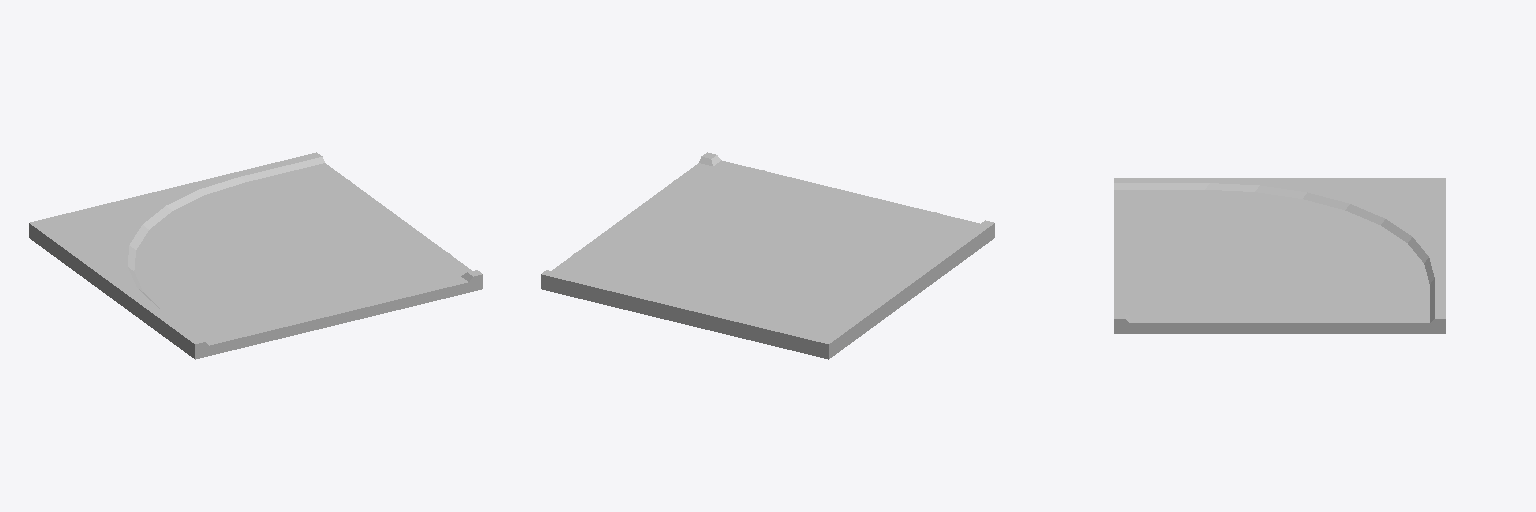
File: road_corner_curved.obj
The picture shows the model from 3 angles: view 1: azimuth 30°, elevation 25°; view 2: azimuth 150°, elevation 25°; view 3: azimuth 270°, elevation 25°; orthographic projection.
Visible parts, largest first — view 1: road_corner_curved_Cube.947; view 2: road_corner_curved_Cube.947; view 3: road_corner_curved_Cube.947.
Boxes of the visible parts, x1,y1,x2,y2 form: road_corner_curved_Cube.947: [29, 152, 482, 359]; road_corner_curved_Cube.947: [541, 152, 994, 359]; road_corner_curved_Cube.947: [1114, 178, 1445, 333].
Bounding box in the file's own units: 2 × 0.1 × 2.